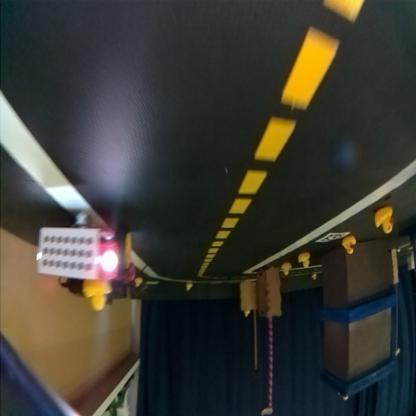Duckie: (83, 279, 111, 310), (376, 210, 394, 234), (343, 236, 357, 256), (299, 254, 310, 269), (284, 264, 292, 276), (136, 278, 145, 286), (244, 310, 250, 318), (187, 284, 193, 292)
Duckiebot: (37, 228, 134, 288)
QR code: (316, 235, 346, 243)
